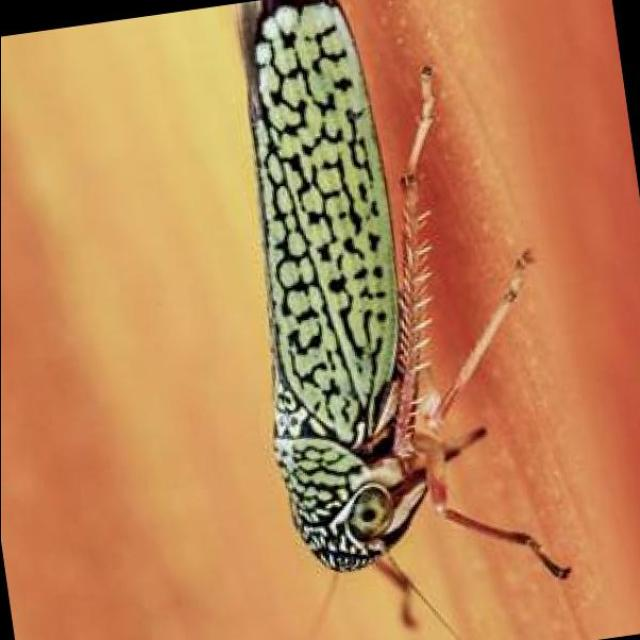green leaf hopper: (238, 0, 568, 629)
